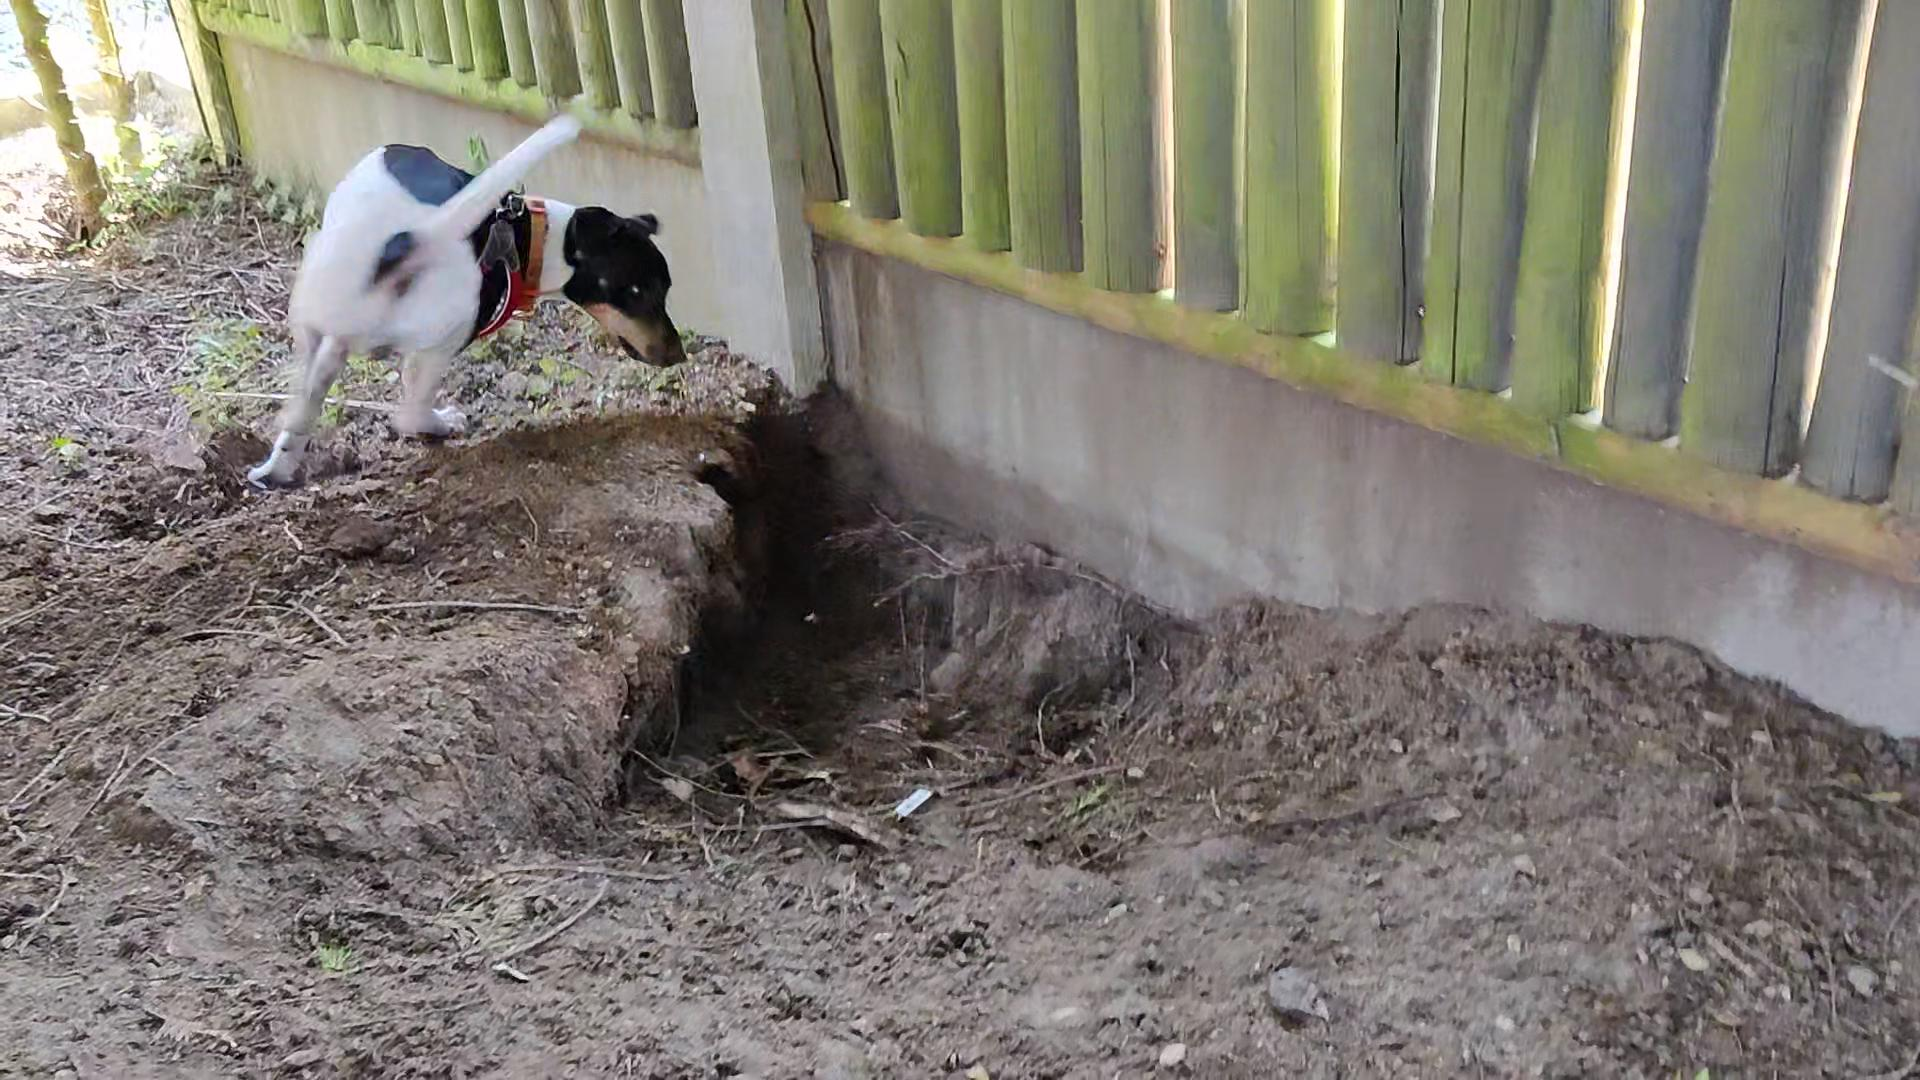Dog: (224, 102, 707, 502)
